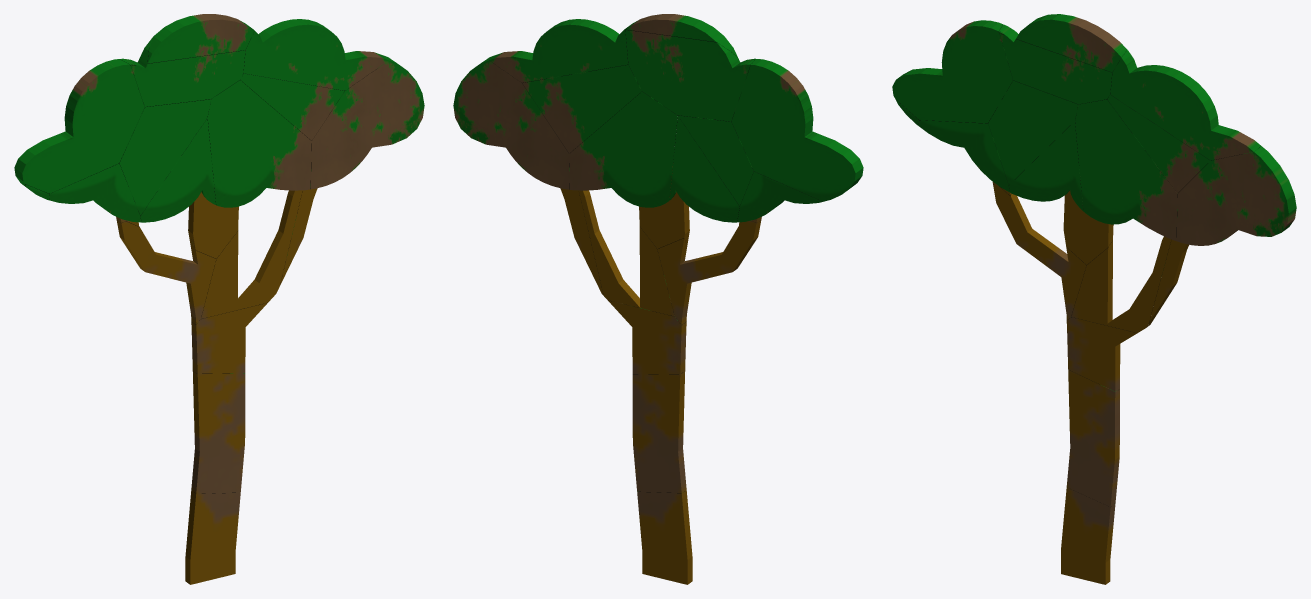
File: Arbol1.fbx
3 renders of one model, left to right at view 1: azimuth 30°, elevation 25°; view 2: azimuth 150°, elevation 25°; view 3: azimuth 330°, elevation 25°, orthographic.
Parts seen in each view (by area): view 1: arbol 1_cell.004, arbol 1_cell.005, arbol 1_cell.008, arbol 1_cell.002, arbol 1.001_cell.003, arbol 1_cell.011, arbol 1_cell.010, arbol 1.001_cell.008, arbol 1.001_cell, arbol 1_cell.001, arbol 1_cell.006, arbol 1.001_cell.002 (+5 smaller); view 2: arbol 1_cell.004, arbol 1_cell.005, arbol 1_cell.010, arbol 1_cell.008, arbol 1.001_cell.003, arbol 1_cell.007, arbol 1_cell.002, arbol 1.001_cell, arbol 1.001_cell.008, arbol 1.001_cell.001, arbol 1_cell.006, arbol 1.001_cell.002 (+5 smaller); view 3: arbol 1_cell.005, arbol 1_cell.008, arbol 1_cell.004, arbol 1_cell.002, arbol 1.001_cell.003, arbol 1_cell.011, arbol 1_cell.010, arbol 1.001_cell, arbol 1.001_cell.008, arbol 1_cell.001, arbol 1_cell.006, arbol 1.001_cell.002 (+5 smaller).
Part boxes in pixels (x1=…): arbol 1_cell.004: x1=14, y1=59, x2=144, y2=193; arbol 1_cell.005: x1=207, y1=80, x2=311, y2=207; arbol 1_cell.008: x1=310, y1=55, x2=424, y2=189; arbol 1_cell.002: x1=243, y1=19, x2=388, y2=90; arbol 1.001_cell.003: x1=191, y1=371, x2=245, y2=493; arbol 1_cell.011: x1=119, y1=99, x2=210, y2=215; arbol 1_cell.010: x1=119, y1=37, x2=245, y2=107; arbol 1.001_cell.008: x1=201, y1=190, x2=302, y2=318; arbol 1.001_cell: x1=185, y1=490, x2=240, y2=584; arbol 1_cell.001: x1=147, y1=14, x2=254, y2=63; arbol 1_cell.006: x1=140, y1=118, x2=215, y2=222; arbol 1.001_cell.002: x1=191, y1=302, x2=267, y2=373; arbol 1_cell.004: x1=731, y1=59, x2=863, y2=201; arbol 1_cell.005: x1=569, y1=91, x2=677, y2=207; arbol 1_cell.010: x1=625, y1=30, x2=754, y2=121; arbol 1_cell.008: x1=453, y1=55, x2=569, y2=189; arbol 1.001_cell.003: x1=632, y1=370, x2=686, y2=492; arbol 1_cell.007: x1=522, y1=65, x2=641, y2=153; arbol 1_cell.002: x1=489, y1=19, x2=628, y2=82; arbol 1.001_cell: x1=637, y1=490, x2=692, y2=584; arbol 1.001_cell.008: x1=578, y1=190, x2=674, y2=316; arbol 1.001_cell.001: x1=657, y1=220, x2=761, y2=324; arbol 1_cell.006: x1=669, y1=116, x2=739, y2=222; arbol 1.001_cell.002: x1=608, y1=300, x2=686, y2=374; arbol 1_cell.005: x1=1075, y1=99, x2=1177, y2=240; arbol 1_cell.008: x1=1176, y1=146, x2=1296, y2=245; arbol 1_cell.004: x1=892, y1=20, x2=1012, y2=123; arbol 1_cell.002: x1=1110, y1=50, x2=1260, y2=160; arbol 1.001_cell.003: x1=1066, y1=369, x2=1119, y2=506; arbol 1_cell.011: x1=988, y1=80, x2=1078, y2=184; arbol 1_cell.010: x1=999, y1=24, x2=1112, y2=104; arbol 1.001_cell: x1=1061, y1=487, x2=1115, y2=584; arbol 1.001_cell.008: x1=1071, y1=236, x2=1171, y2=332; arbol 1_cell.001: x1=1016, y1=14, x2=1127, y2=72; arbol 1_cell.006: x1=1009, y1=121, x2=1083, y2=210; arbol 1.001_cell.002: x1=1066, y1=317, x2=1137, y2=391.
Bounding box in the file's own units: 520 × 695 × 17.73.
